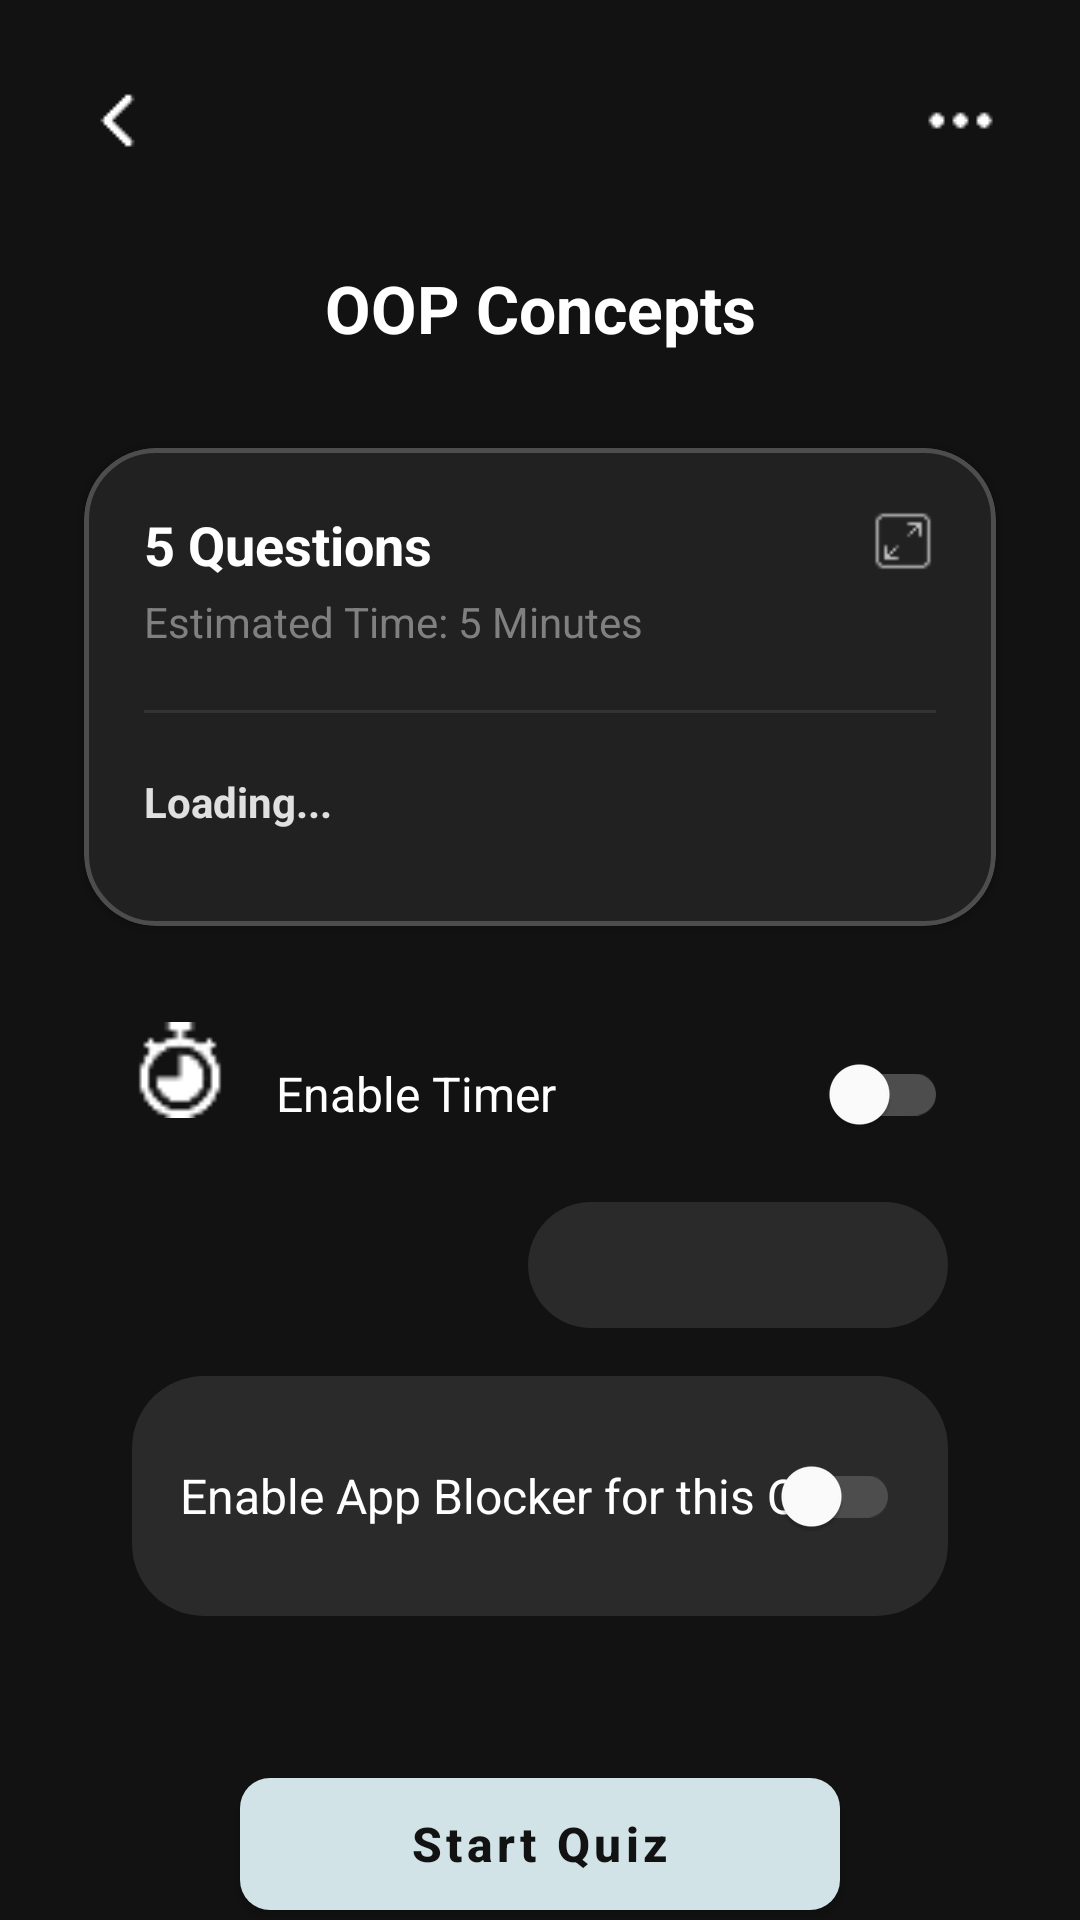

Icon bounding boxes for this 1080*1920 phone screenshot, format (x1, y1, x2, y2):
back: (100, 94, 135, 147)
dots: (928, 112, 993, 129)
fullscreen: (875, 513, 931, 569)
